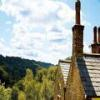chimneys: (72, 0, 84, 55), (91, 26, 100, 53)
